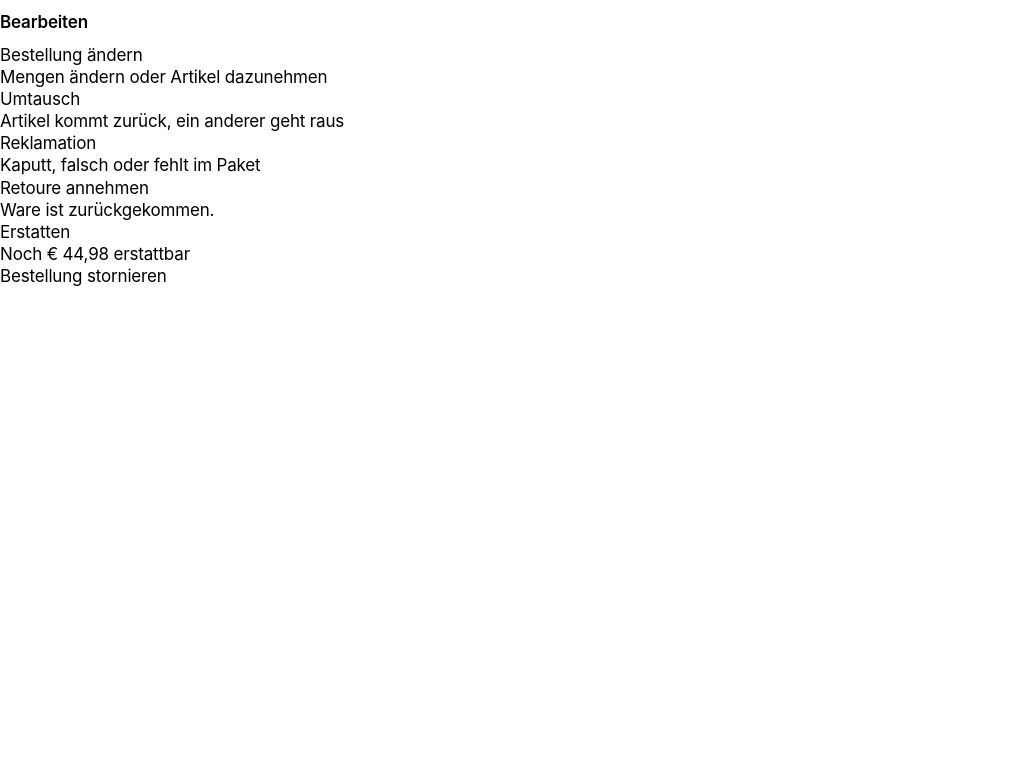
it: refund › the sheet shows amount, currency and shop, and only the red button sends
Later steps or results of the test are not shown.
Click the button "Erstatten Noch € 44,98 erstattbar" at (35, 232), box [0, 221, 1023, 265]
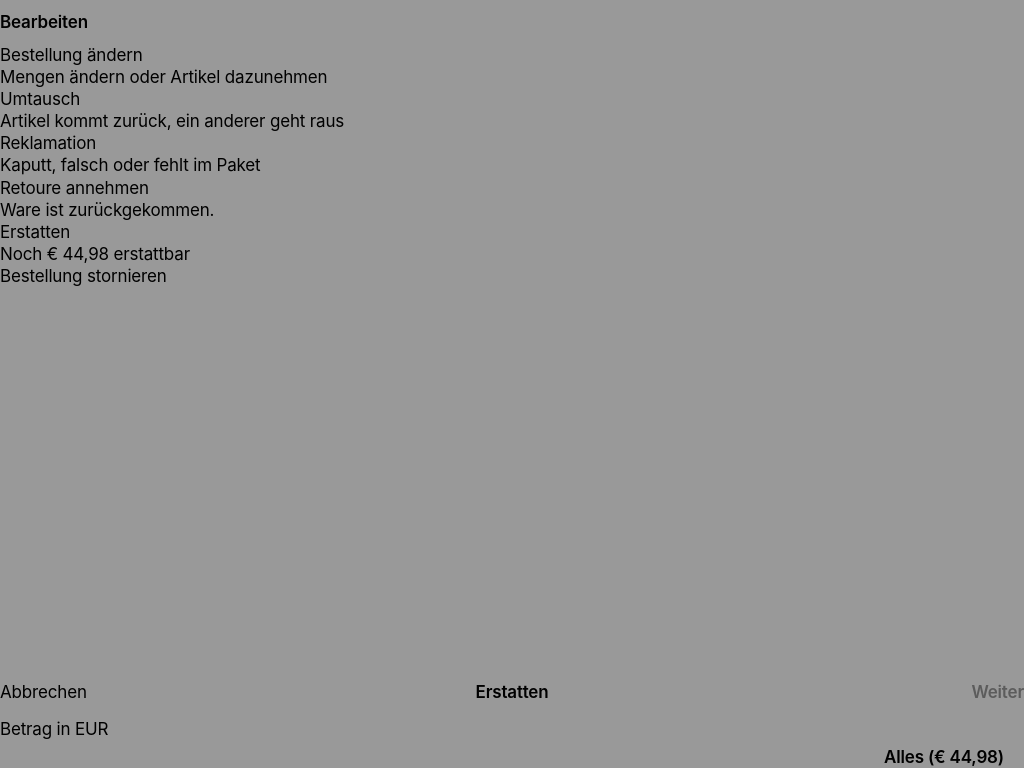
Type "12,50" into the field labelled "Betrag in EUR" at (512, 757), box [0, 746, 1023, 767]
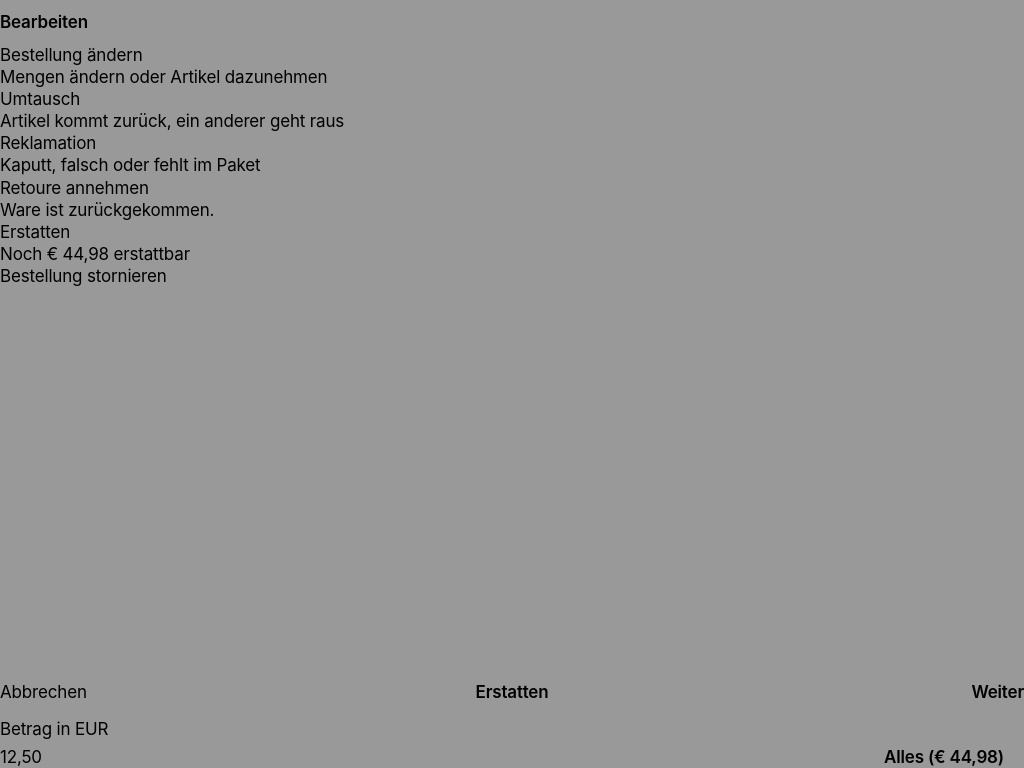
Click the button "Weiter" at (998, 692), box [971, 670, 1023, 714]
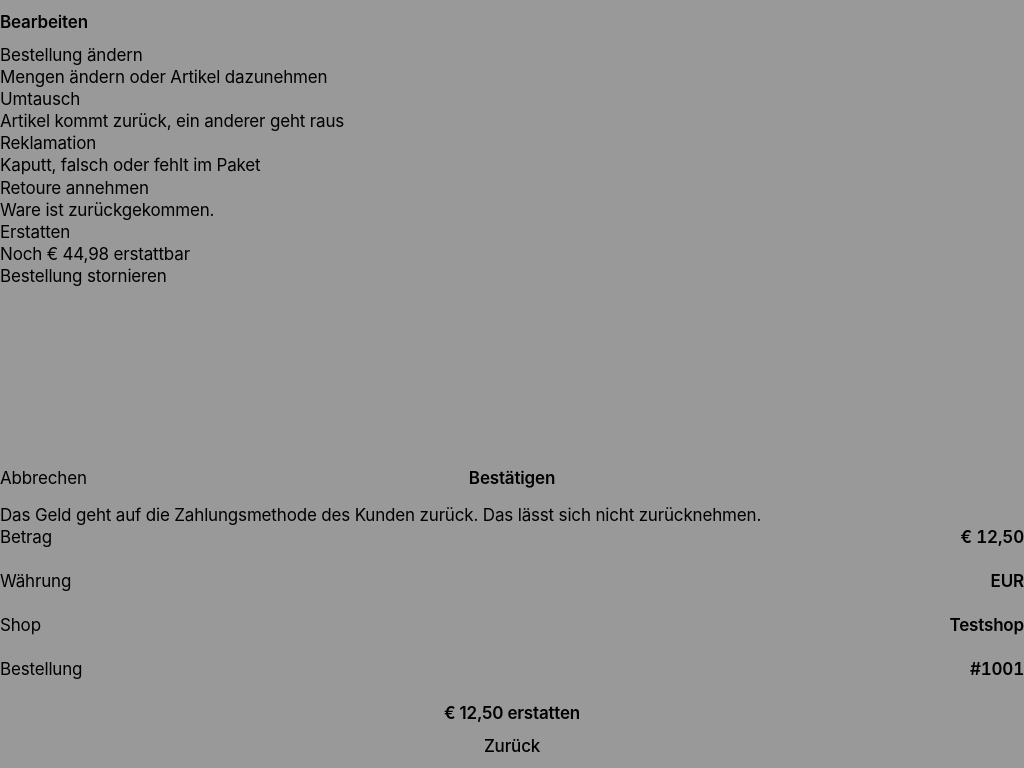
Check: the text "EUR" is shown, box [991, 570, 1023, 592]
Check: the heading "Bestätigen" is shown, box [469, 468, 555, 488]
Check: the text "Testshop" is shown, box [950, 614, 1023, 636]
